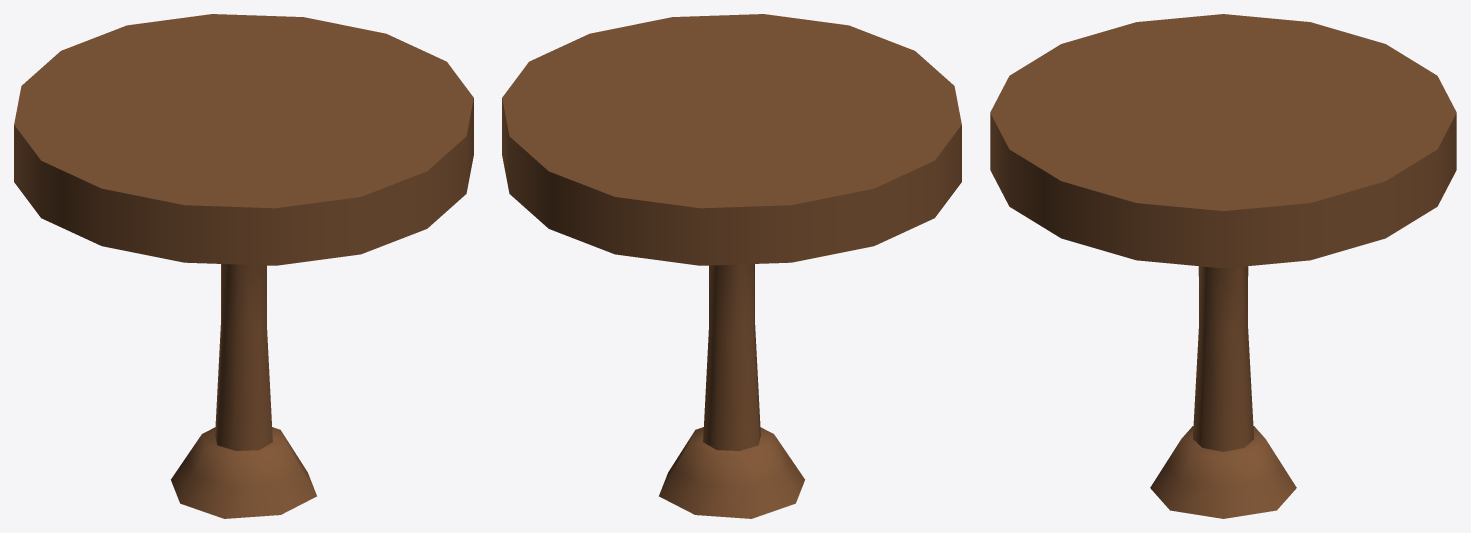
Rendered from RoundTable.fbx.
The picture shows the model from 3 angles, left to right: view 1: azimuth 30°, elevation 25°; view 2: azimuth 150°, elevation 25°; view 3: azimuth 270°, elevation 25°; orthographic projection.
Parts seen in each view (by area): view 1: RoundTable; view 2: RoundTable; view 3: RoundTable.
Boxes of the visible parts, <box> form: RoundTable: <box>14,14,473,518</box>; RoundTable: <box>502,14,961,518</box>; RoundTable: <box>990,14,1456,518</box>.
Bounding box in the file's own units: 119 × 105 × 119.
